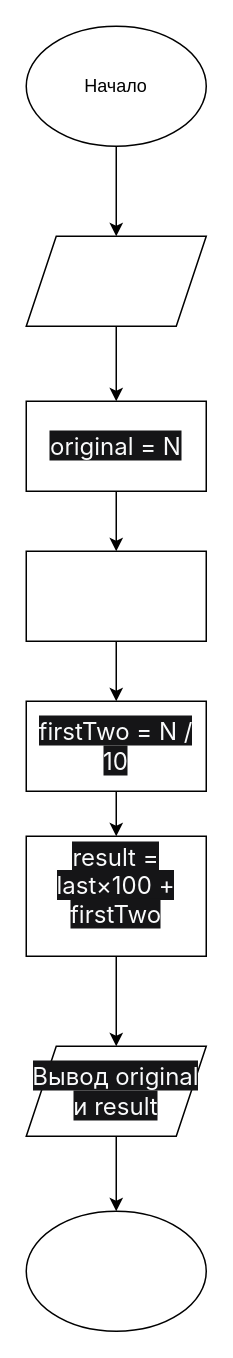
Some shapes in this 233 by 1358 pixel diagram are drawn without their labels. Each missing label, with the centre of its shape:
"last = N % 10" belongs at [115,595].
"Ввод трехзначного числа N" belongs at [115,280].
"Конец" belongs at [115,1270].
